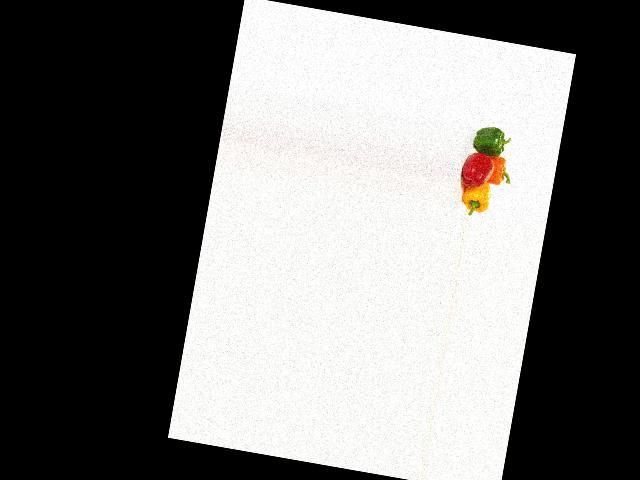bell_pepper: (466, 123, 510, 160)
